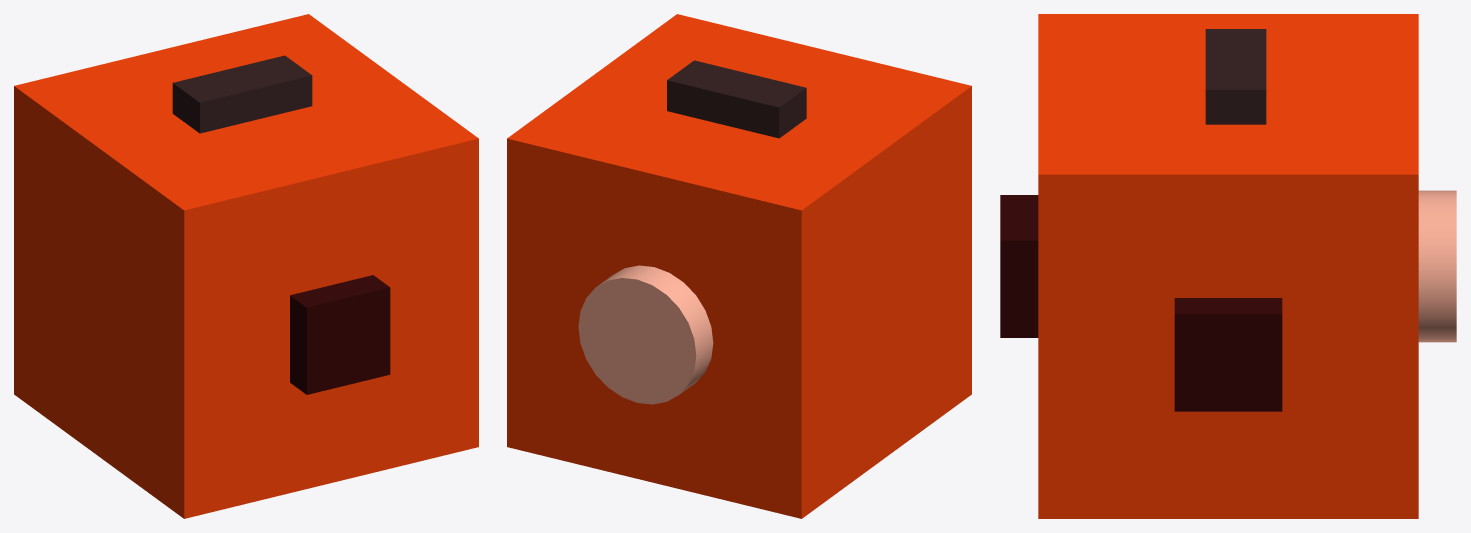
The model's file is Subtraction_Operator.dae.
3 views of the same model, side by side, from view 1: azimuth 30°, elevation 25°; view 2: azimuth 150°, elevation 25°; view 3: azimuth 270°, elevation 25° (orthographic). The views are drawn at different scales.
Visible parts, largest first — view 1: SketchUp (×2), instance_0; view 2: SketchUp (×2), instance_0; view 3: SketchUp (×4), instance_0.
Boxes of the visible parts, x1,y1,x2,y2 form: SketchUp (×2): (14, 14, 478, 518); instance_0: (172, 55, 312, 133); SketchUp (×2): (507, 14, 971, 518); instance_0: (667, 60, 806, 138); SketchUp (×4): (1000, 14, 1456, 518); instance_0: (1205, 29, 1266, 124).
Bounding box in the file's own units: 43.31 × 47.24 × 43.31.
